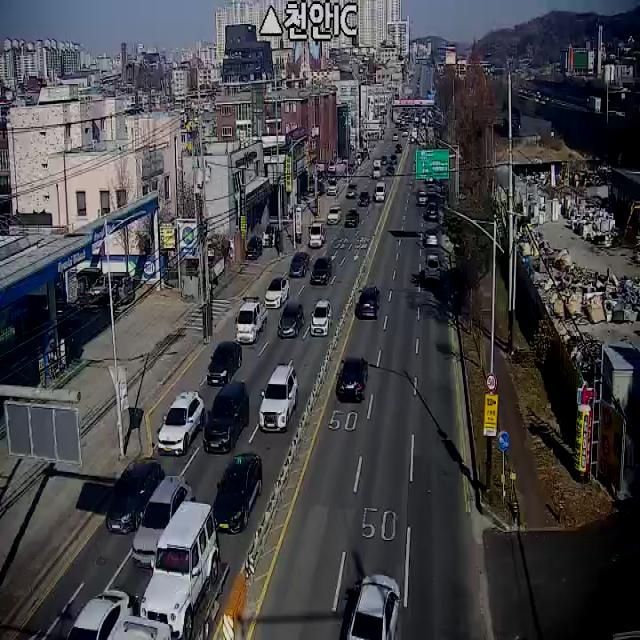Car: (140, 501, 220, 639), (133, 476, 194, 571), (106, 461, 165, 535), (212, 452, 262, 534), (348, 575, 400, 640), (66, 590, 133, 640), (204, 382, 249, 454), (156, 391, 204, 455), (259, 364, 298, 431), (206, 342, 242, 386), (110, 616, 172, 640), (337, 356, 368, 402), (278, 303, 304, 339), (310, 299, 332, 337), (264, 277, 290, 309), (358, 287, 379, 318), (310, 258, 332, 284), (289, 252, 309, 278), (425, 253, 440, 280), (246, 237, 262, 260), (345, 208, 359, 229), (327, 206, 341, 225), (427, 196, 438, 220), (262, 228, 275, 247), (346, 183, 358, 199), (358, 191, 370, 207), (425, 233, 438, 246), (327, 181, 339, 195), (418, 191, 427, 205), (386, 165, 395, 175), (389, 154, 398, 164), (395, 143, 402, 154), (382, 155, 387, 165), (392, 132, 398, 140), (402, 129, 408, 137)
Truck: (235, 301, 267, 344), (310, 224, 326, 248), (375, 182, 385, 202), (373, 158, 381, 180)
